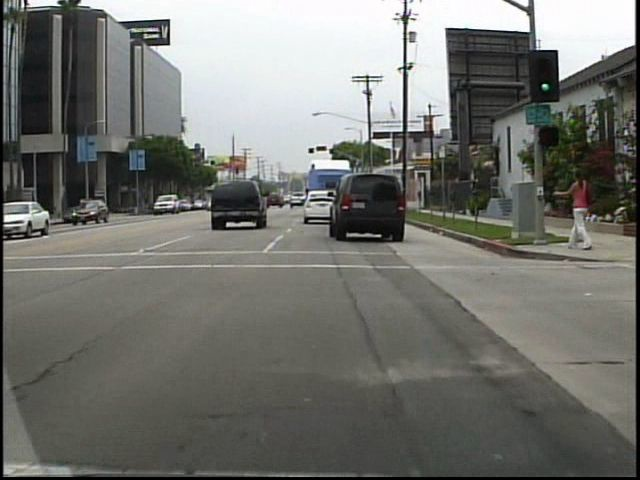person: (551, 166, 594, 252)
